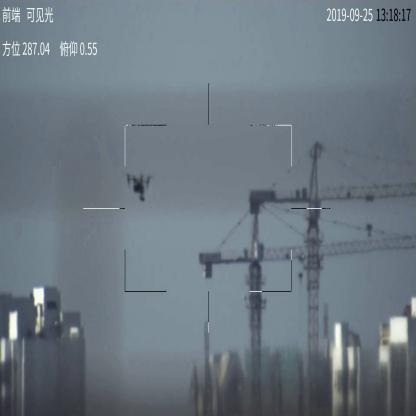uav: (124, 174, 154, 201)
